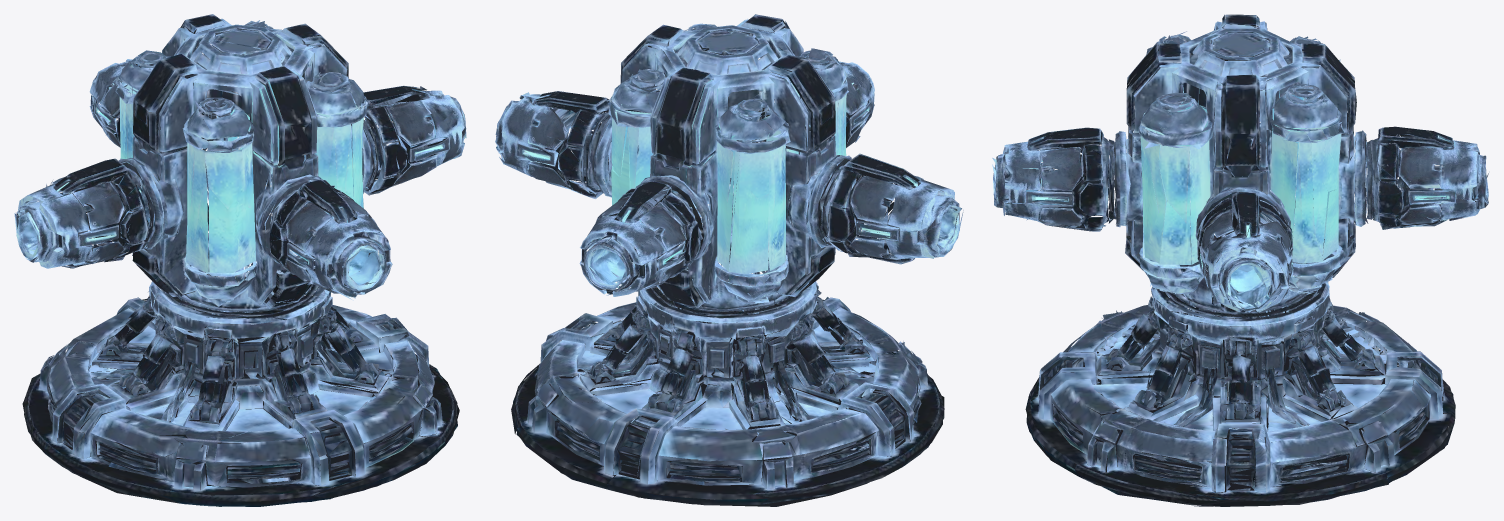
The model's file is tower_cryo_p1_t5.glb.
3 views of the same model, side by side, from view 1: azimuth 30°, elevation 25°; view 2: azimuth 150°, elevation 25°; view 3: azimuth 270°, elevation 25° (orthographic).
Visible parts, largest first — view 1: head, base; view 2: head, base; view 3: head, base.
Boxes of the visible parts, bbox=[...] form: head: bbox=[14, 14, 466, 308]; base: bbox=[22, 252, 459, 506]; head: bbox=[495, 14, 963, 307]; base: bbox=[511, 248, 944, 506]; head: bbox=[992, 14, 1488, 313]; base: bbox=[1025, 251, 1455, 506].
Size of the model in its own units: 0.9904 by 0.8138 by 0.9747.
Materials: 1 (1 with a texture image).
